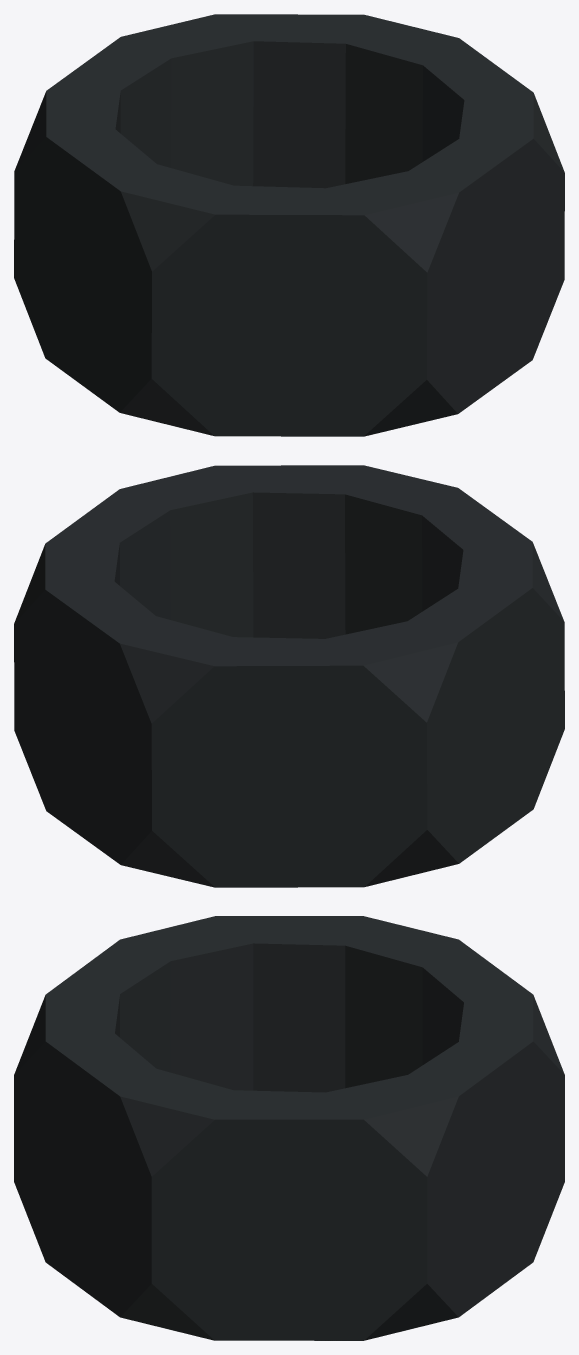
The model's file is SM_SCREW_01.glb.
3 views of the same model, one above another, from view 1: azimuth 30°, elevation 25°; view 2: azimuth 150°, elevation 25°; view 3: azimuth 270°, elevation 25° (orthographic).
Visible parts, largest first — view 1: SM_SCREW_01; view 2: SM_SCREW_01; view 3: SM_SCREW_01.
Part boxes in pixels (x1,y1,x2,y2): SM_SCREW_01: (14,14,564,436); SM_SCREW_01: (14,465,564,887); SM_SCREW_01: (14,916,564,1340).
Bounding box in the file's own units: 0.016 × 0.00826 × 0.0185.
1 material, 1 textured.
